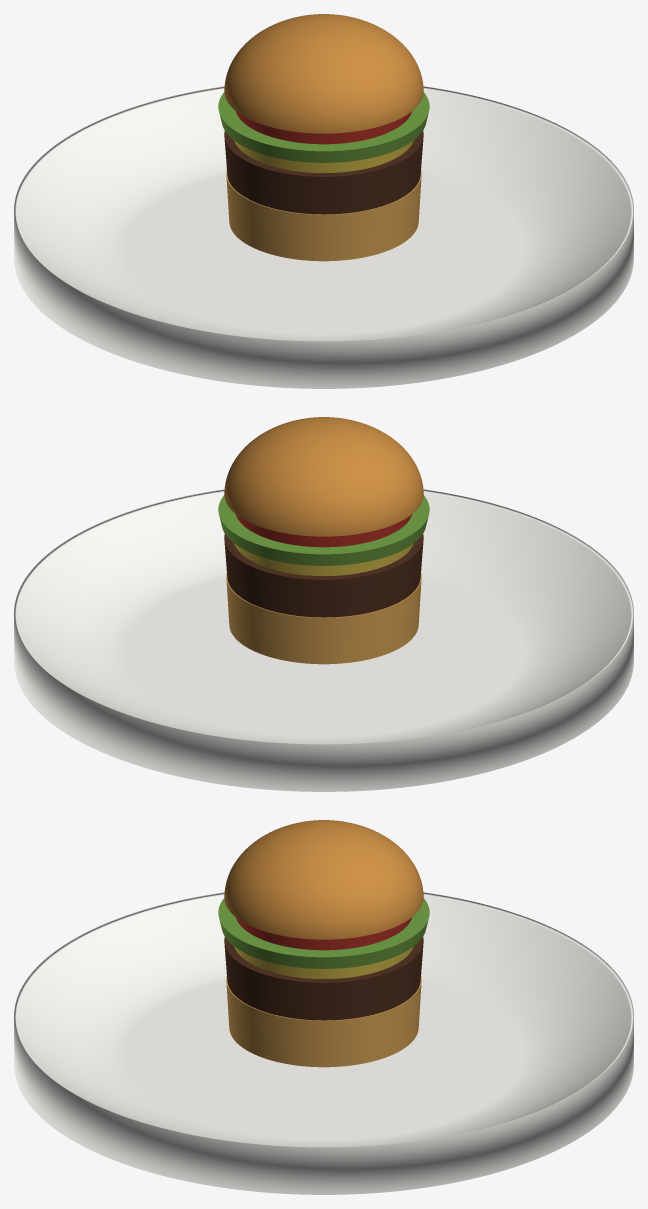
File: burger-kids-hero.glb
3 renders of one model, top to bottom at view 1: azimuth 30°, elevation 25°; view 2: azimuth 150°, elevation 25°; view 3: azimuth 270°, elevation 25°, orthographic.
Size of the model in its own units: 0.26 by 0.1071 by 0.26.
